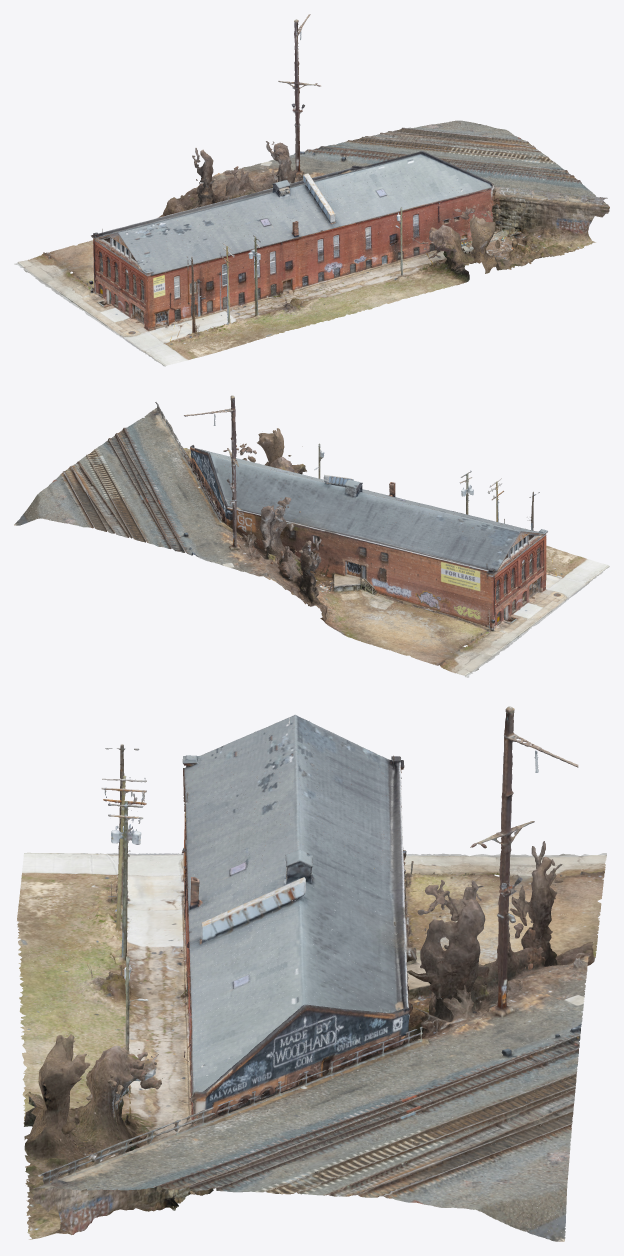
The model's file is tabacco_warehouse.glb.
3 views of the same model, one above another, from view 1: azimuth 30°, elevation 25°; view 2: azimuth 150°, elevation 25°; view 3: azimuth 270°, elevation 25° (orthographic). The views are drawn at different scales.
Parts seen in each view (by area): view 1: Object_5, Object_4, Object_6, Object_2, Object_3, Object_8, Object_11, Object_9, Object_10, Object_7; view 2: Object_7, Object_4, Object_11, Object_2, Object_10, Object_8, Object_6, Object_3, Object_9, Object_5, Object_12; view 3: Object_2, Object_3, Object_11, Object_4, Object_5, Object_8, Object_9, Object_7, Object_10, Object_6, Object_12.
Boxes of the visible parts, <box> form: Object_5: <box>115,205,422,359</box>; Object_4: <box>163,147,417,332</box>; Object_6: <box>77,208,257,366</box>; Object_2: <box>372,120,589,273</box>; Object_3: <box>313,127,492,303</box>; Object_8: <box>28,120,609,312</box>; Object_11: <box>167,88,418,354</box>; Object_9: <box>270,128,500,291</box>; Object_10: <box>25,14,391,362</box>; Object_7: <box>14,149,208,306</box>; Object_7: <box>293,518,519,677</box>; Object_4: <box>158,452,443,620</box>; Object_11: <box>153,465,573,598</box>; Object_2: <box>14,429,295,536</box>; Object_10: <box>174,395,607,669</box>; Object_8: <box>19,402,532,670</box>; Object_6: <box>360,473,609,632</box>; Object_3: <box>83,428,323,551</box>; Object_9: <box>85,430,381,541</box>; Object_5: <box>345,470,585,603</box>; Object_12: <box>158,521,349,586</box>; Object_2: <box>24,1041,574,1241</box>; Object_3: <box>22,940,579,1156</box>; Object_11: <box>17,744,589,1085</box>; Object_4: <box>18,794,593,1109</box>; Object_5: <box>17,763,425,1088</box>; Object_8: <box>28,851,585,1239</box>; Object_9: <box>22,865,575,1160</box>; Object_7: <box>266,715,606,963</box>; Object_10: <box>22,706,604,1060</box>; Object_6: <box>22,714,401,973</box>; Object_12: <box>398,979,577,1068</box>.
Bounding box in the file's own units: 169 × 69.9 × 93.24.
1 material, 1 textured.
